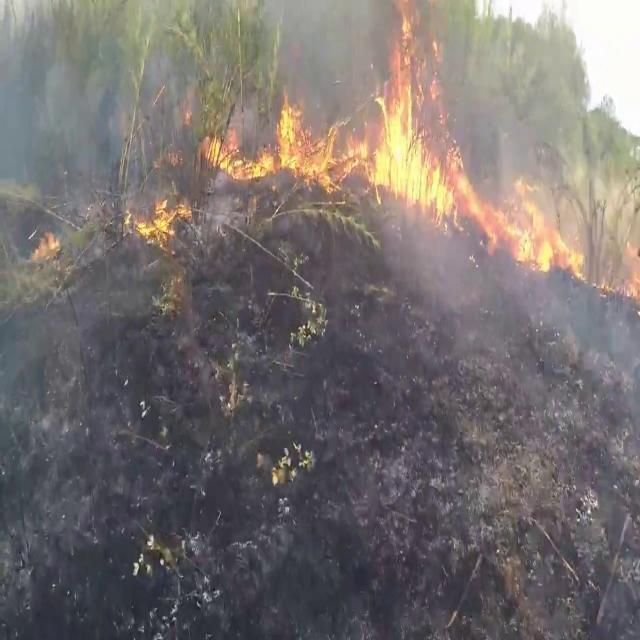Fire: (210, 6, 472, 214), (492, 177, 584, 276), (126, 191, 194, 248), (624, 235, 640, 324)
Smoke: (0, 0, 130, 244)
